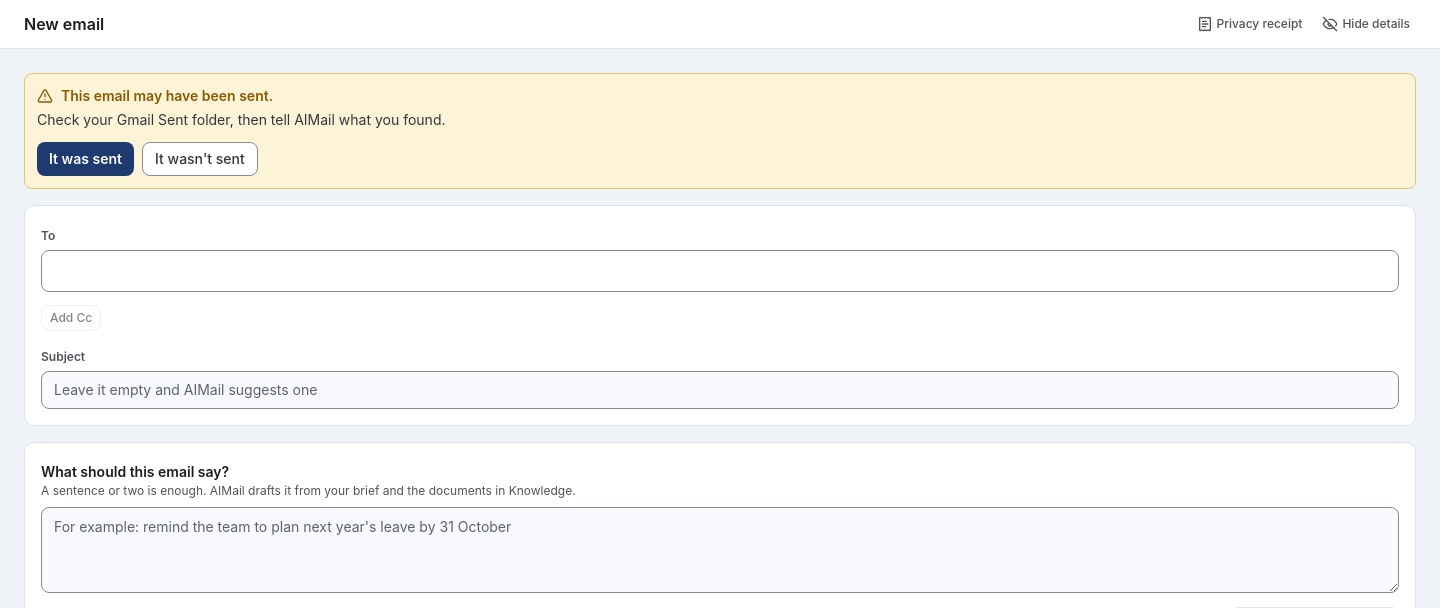
Test: an email that may have been sent › It wasn't sent asks the backend to release it
The width and height of the screenshot is (1440, 608).
Expected: the text box labelled "What should this email say?" is shown, [41, 507, 1399, 593]
Click the button "It wasn't sent" at (200, 159), box [142, 142, 258, 176]
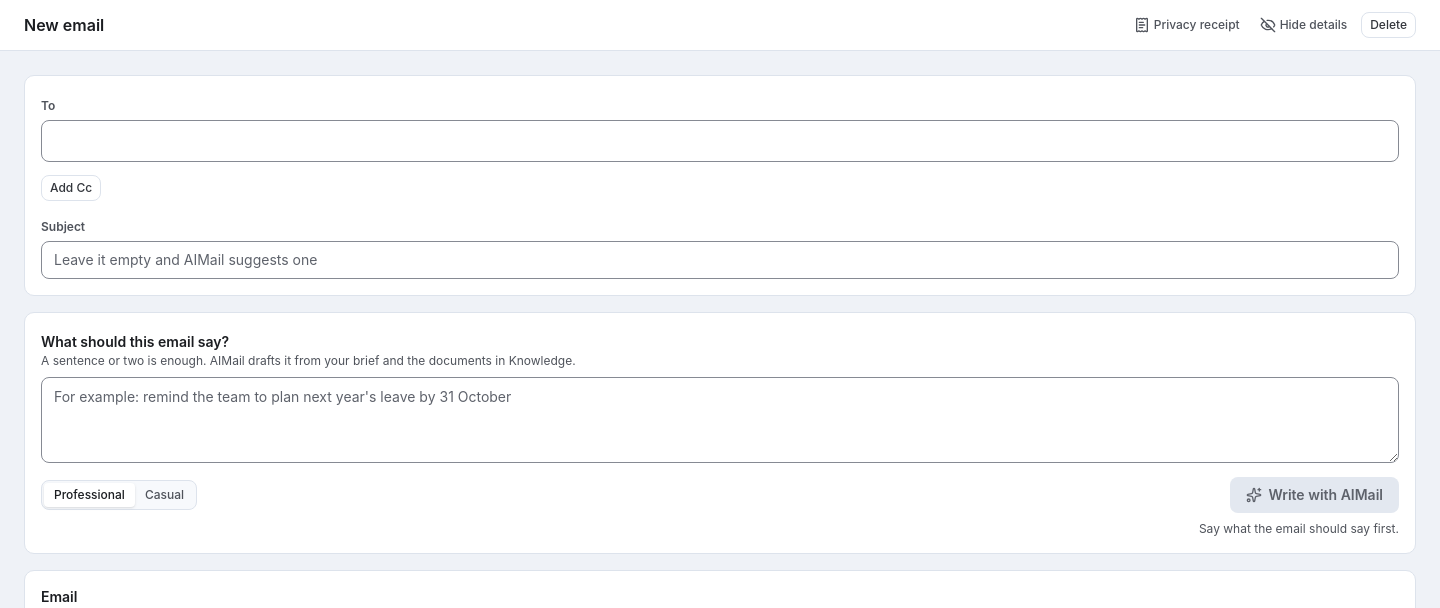
Expected: the field labelled "Subject" is enabled, [41, 241, 1399, 279]
